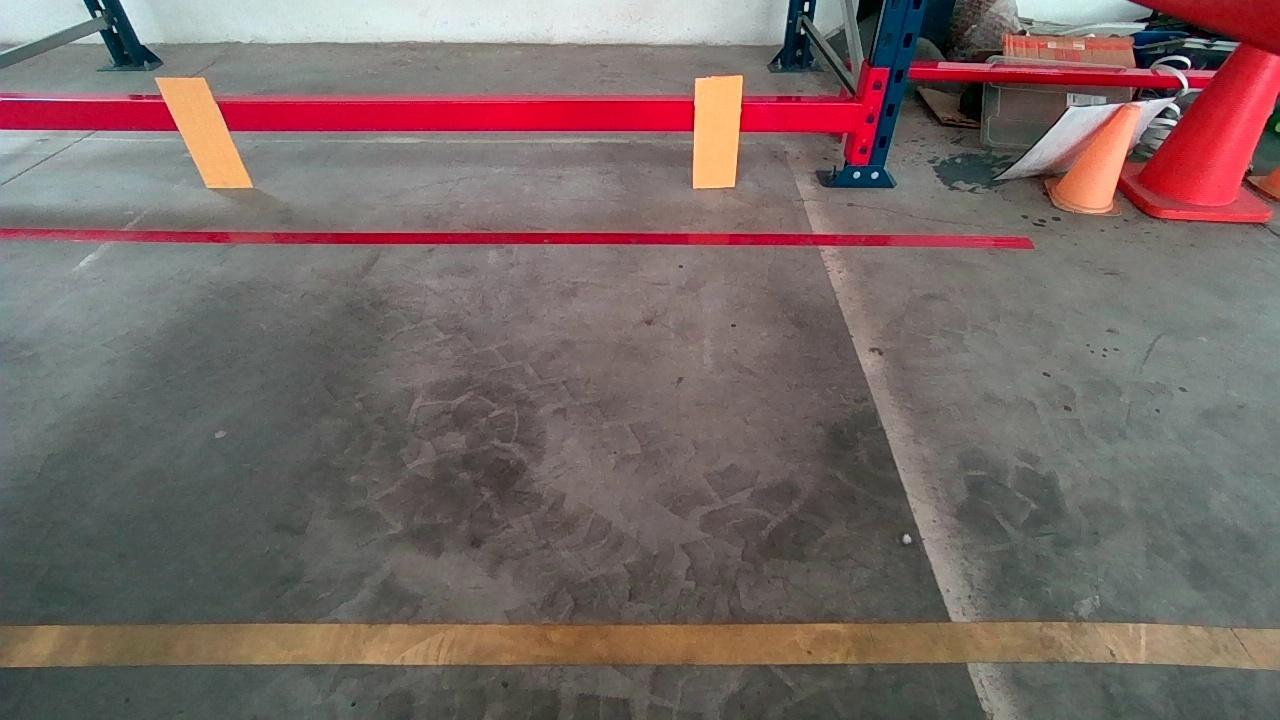h_rack: (2, 92, 851, 138)
orange_strip: (156, 77, 250, 185), (692, 76, 741, 185)
red_line: (2, 217, 1033, 255)
yellow_line: (8, 610, 1254, 674)
